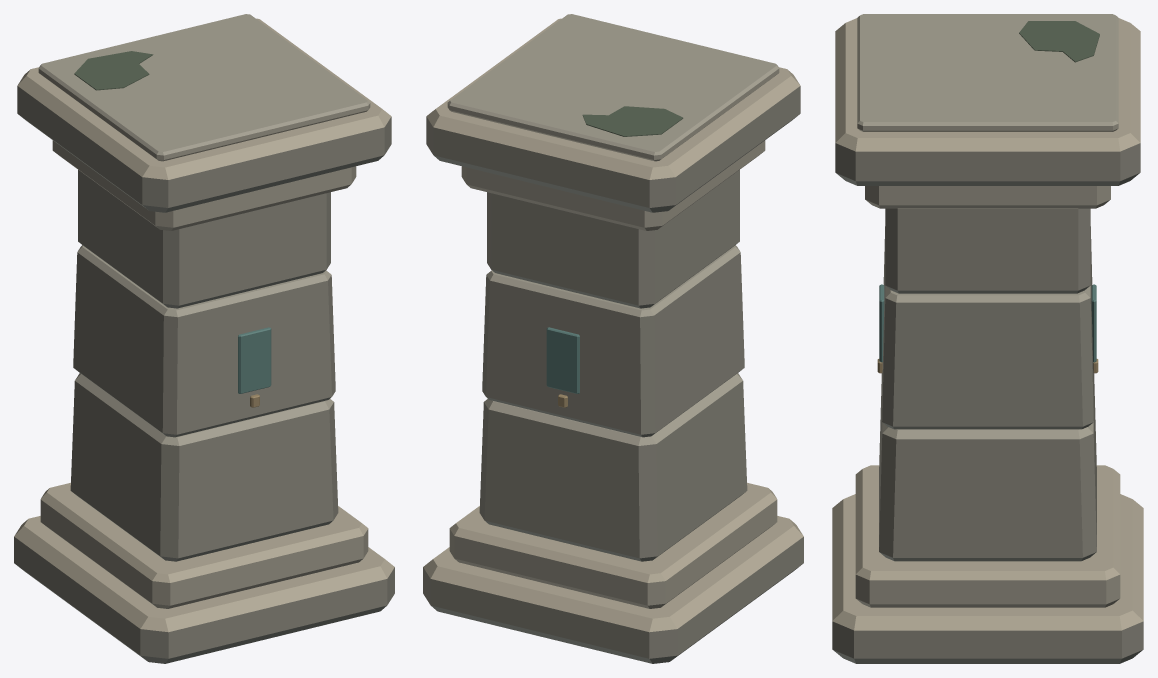
Rendered from pillar-large.glb.
3 views of the same model, side by side, from view 1: azimuth 30°, elevation 25°; view 2: azimuth 150°, elevation 25°; view 3: azimuth 270°, elevation 25° (orthographic). The views are drawn at different scales.
Parts seen in each view (by area): view 1: pillar-large; view 2: pillar-large; view 3: pillar-large.
Part boxes in pixels (left/top/right/bottom): pillar-large: left=14, top=14, right=394, bottom=663; pillar-large: left=423, top=14, right=803, bottom=663; pillar-large: left=832, top=14, right=1143, bottom=663.
Size of the model in its own units: 1 by 1.9 by 1.
